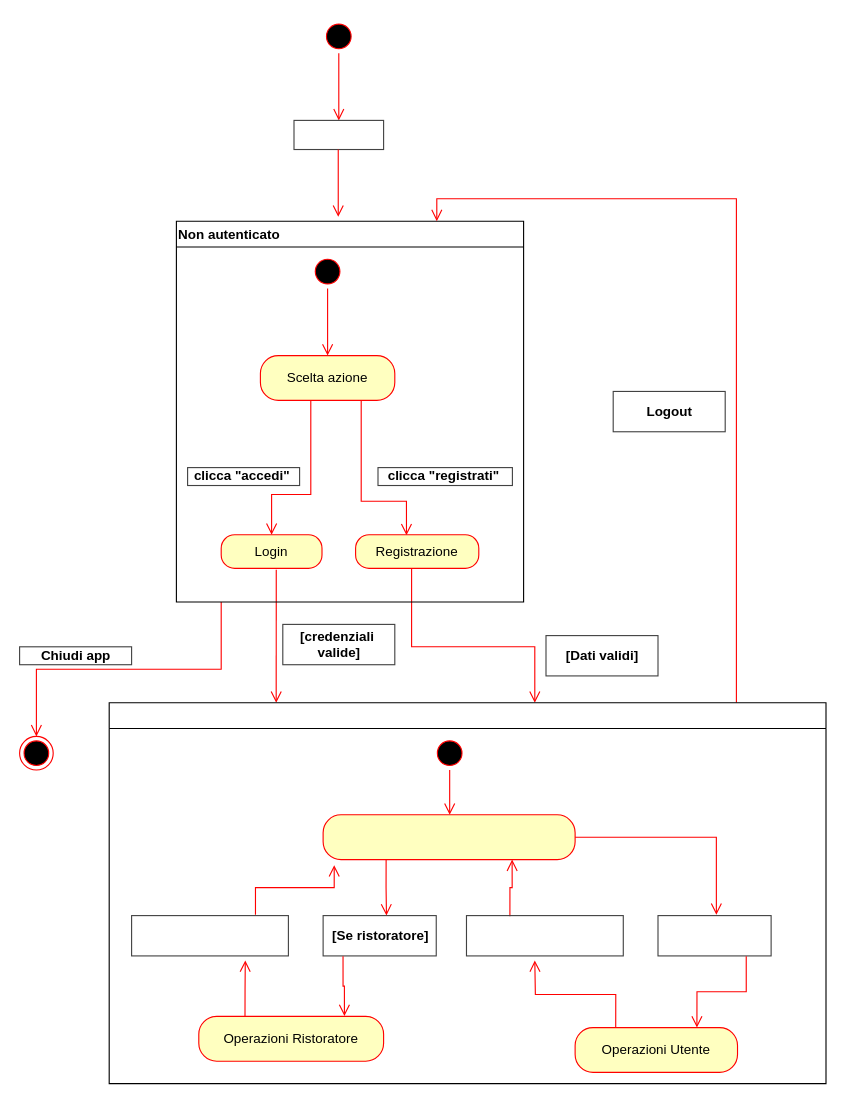
Some shapes in this 846 by 1103 pixel diagram are drawn without their labels. Here are the shapes that lost their labels. From the top down, the box of each, then its label:
(293, 119, 384, 150): Avvia app
(322, 814, 575, 860): Navigazione Dashboard
(108, 702, 826, 1084): Autenticato
(130, 914, 288, 956): Aggiunge Ristorante/ Risponde
(465, 914, 623, 956): Aggiunge preferito/ Recensione
(657, 914, 771, 956): [Se Utente]
